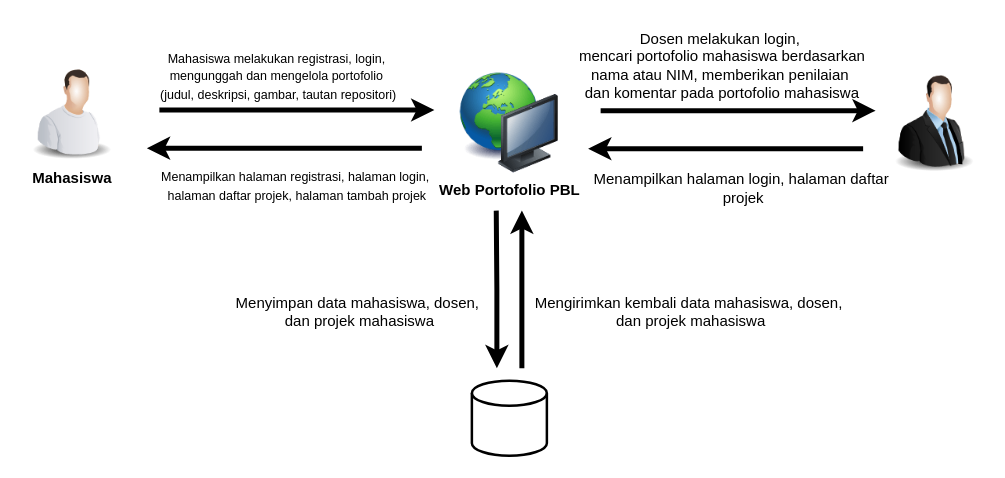
Some shapes in this 1005 by 478 pixel diagram are drawn without their labels. Here are the shapes that lost their labels. From the top down, the centre of each, then its label:
At [934,122]: "Dosen".
At [509,417]: "Database".
